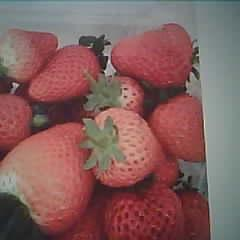straw-ripe: (1, 122, 93, 236), (91, 107, 162, 187), (110, 24, 194, 88), (28, 43, 100, 102), (107, 189, 182, 240), (152, 93, 205, 163), (0, 27, 57, 80)
